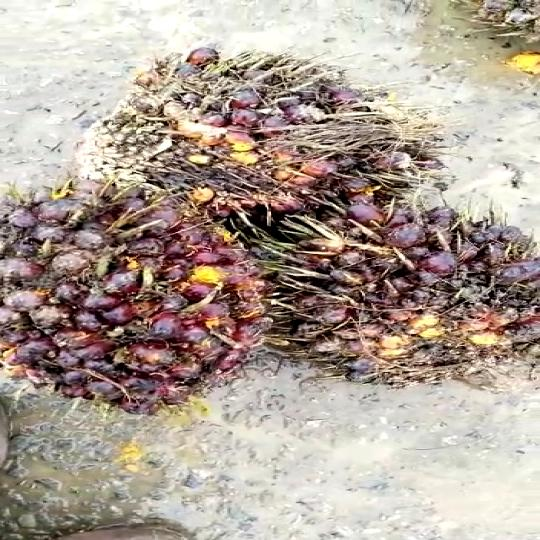kurang masak: (96, 43, 463, 242), (0, 177, 282, 422), (252, 194, 540, 393)
